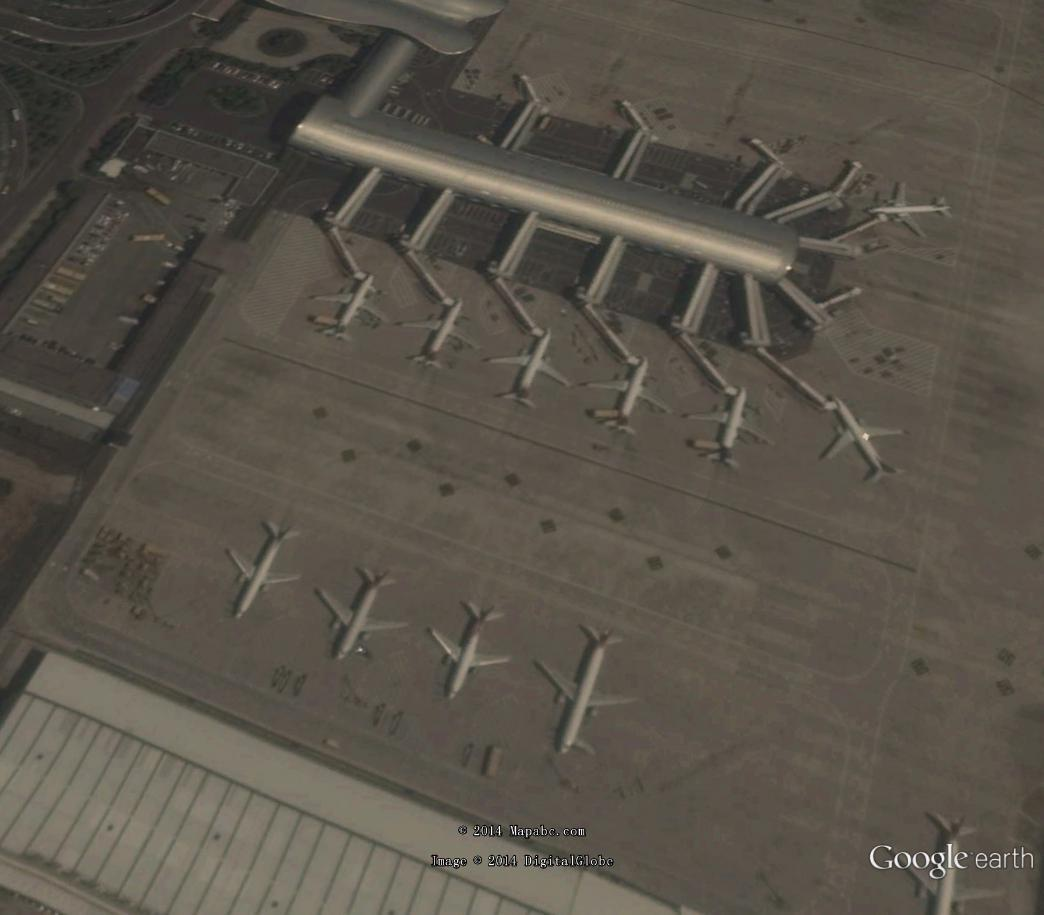aircraft: (525, 615, 645, 763), (873, 804, 1006, 910), (313, 564, 417, 672), (424, 595, 519, 709), (819, 390, 921, 490), (219, 516, 309, 627), (681, 385, 783, 478), (477, 327, 577, 418), (577, 354, 675, 442), (394, 297, 486, 375), (298, 271, 387, 348), (862, 174, 958, 244)
